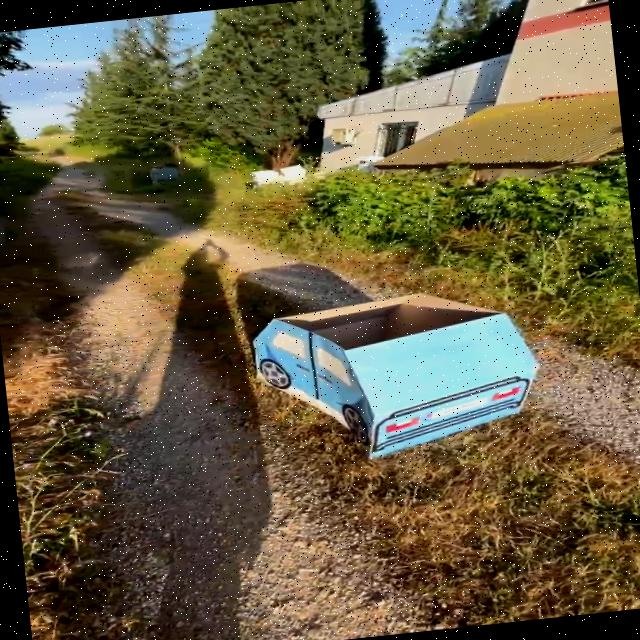blue_car: (212, 255, 561, 493)
